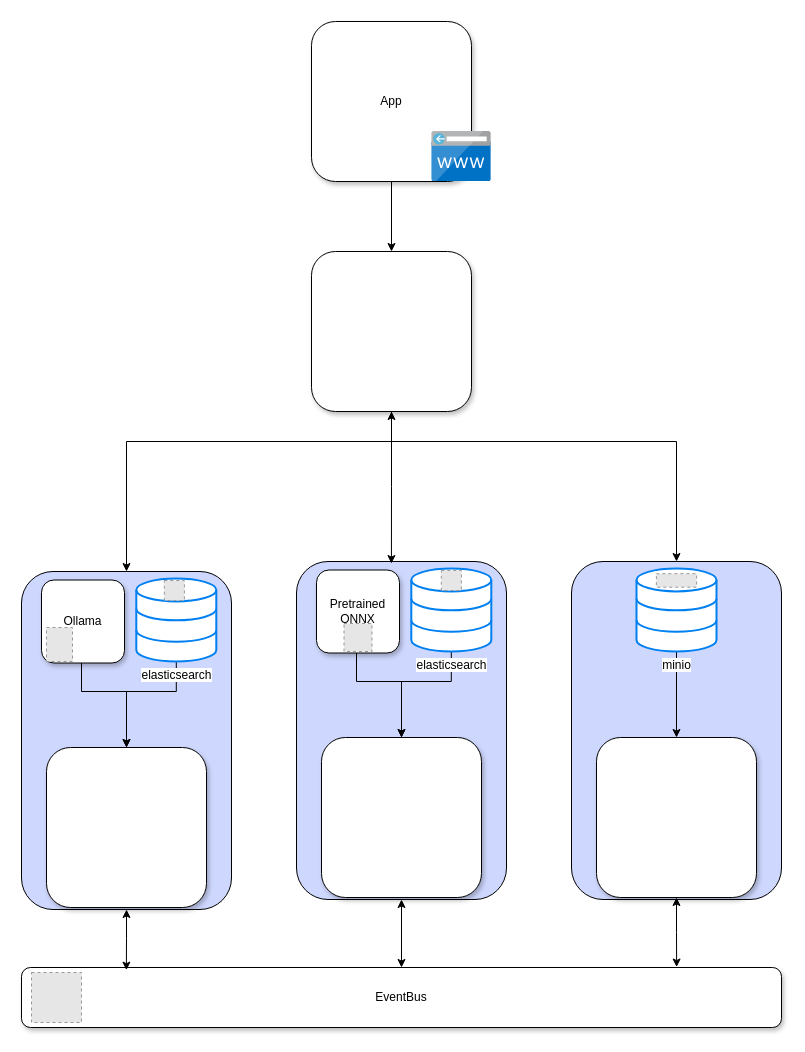
This 805x1052 diagram has some shape labels left out. Grey dashed boxes stand in for pictures. The shapes that lost their labels are listed below. From the top down, each one's centre as x and y in pixels, then its label:
At (392,332): "BFF".
At (127,828): "Detection.Chat".
At (402,818): "Detection.PretrainedModel".
At (677,818): "ImageRepository".
